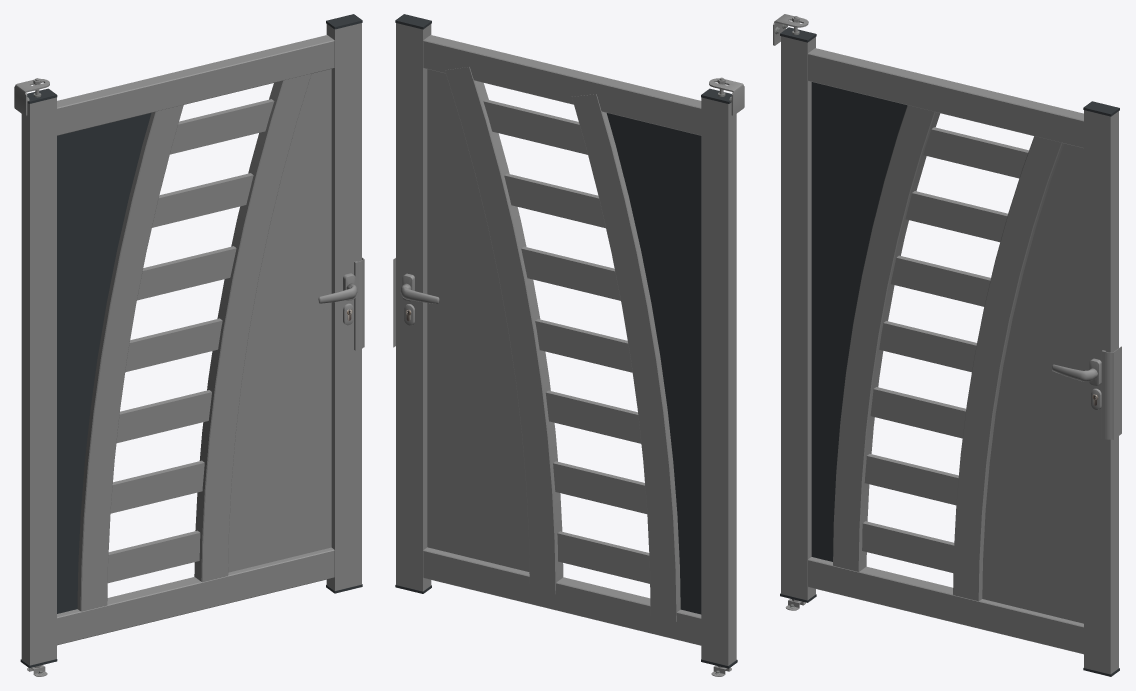
The picture shows the model from 3 angles, left to right: view 1: azimuth 30°, elevation 25°; view 2: azimuth 150°, elevation 25°; view 3: azimuth 330°, elevation 25°; orthographic projection.
Visible parts, largest first — view 1: Line001, Chapa Alucobond016, Shape107412643, Shape212, Shape107412638, Shape107412210, Shape107412526, Shape107412527, Shape233, Shape232, Shape231, Shape230 (+5 smaller); view 2: Line001, Chapa Alucobond016, Shape107412643, Shape107412638, Shape212, Shape107412210, Shape107412526, Shape107412527, Shape233, Shape232, Shape231, Shape230 (+4 smaller); view 3: Line001, Chapa Alucobond016, Shape107412638, Shape107412643, Shape107412210, Shape212, Shape107412526, Shape107412527, Shape233, Shape232, Shape231, Shape230 (+4 smaller).
Boxes of the visible parts, x1,y1,x2,y2 form: Line001: [228, 69, 331, 572]; Chapa Alucobond016: [57, 113, 151, 613]; Shape107412643: [21, 97, 56, 665]; Shape212: [194, 73, 311, 582]; Shape107412638: [326, 23, 361, 590]; Shape107412210: [77, 105, 183, 611]; Shape107412526: [57, 35, 334, 135]; Shape107412527: [57, 547, 334, 645]; Shape233: [170, 99, 274, 154]; Shape232: [152, 173, 253, 227]; Shape231: [137, 246, 236, 300]; Shape230: [125, 318, 222, 372]; Line001: [427, 69, 529, 571]; Chapa Alucobond016: [606, 113, 701, 614]; Shape107412643: [701, 97, 736, 665]; Shape107412638: [396, 23, 431, 591]; Shape212: [445, 67, 563, 594]; Shape107412210: [572, 94, 680, 621]; Shape107412526: [423, 35, 701, 135]; Shape107412527: [423, 547, 701, 645]; Shape233: [483, 99, 587, 154]; Shape232: [504, 173, 605, 228]; Shape231: [521, 246, 620, 300]; Shape230: [535, 319, 632, 372]; Line001: [982, 143, 1083, 623]; Chapa Alucobond016: [811, 82, 907, 561]; Shape107412638: [1084, 110, 1118, 674]; Shape107412643: [781, 36, 815, 600]; Shape107412210: [833, 105, 940, 571]; Shape212: [953, 136, 1063, 601]; Shape107412526: [808, 48, 1083, 148]; Shape107412527: [808, 557, 1083, 654]; Shape233: [923, 127, 1028, 178]; Shape232: [905, 191, 1007, 242]; Shape231: [890, 255, 990, 306]; Shape230: [879, 321, 976, 372].
Bounding box in the file's own units: 1015 × 1688 × 152.
Materials: 7 (4 with a texture image).
